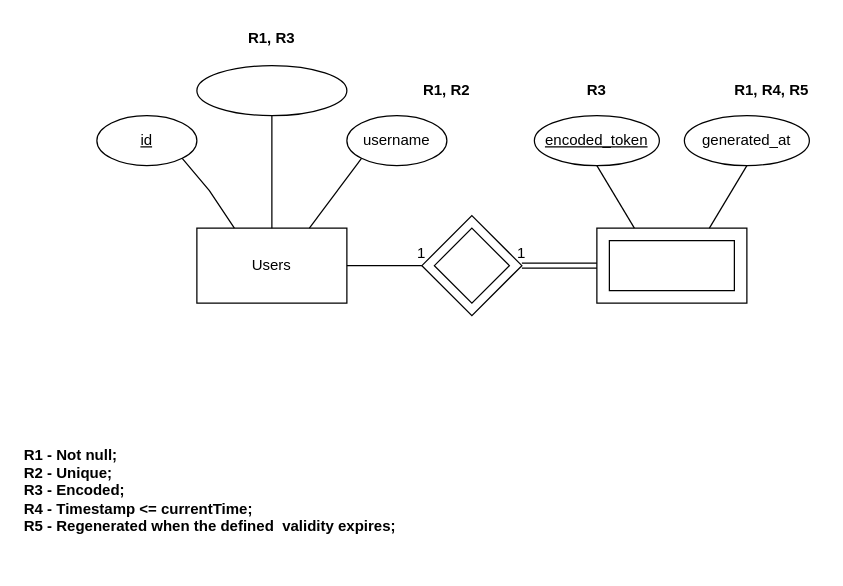
This 843x586 diagram has some shape labels left out. The centre of each missing label's shape, as x and y in pixels:
encoded_password: the point at 271,90
Tem: the point at 471,265
Tokens: the point at 671,265
